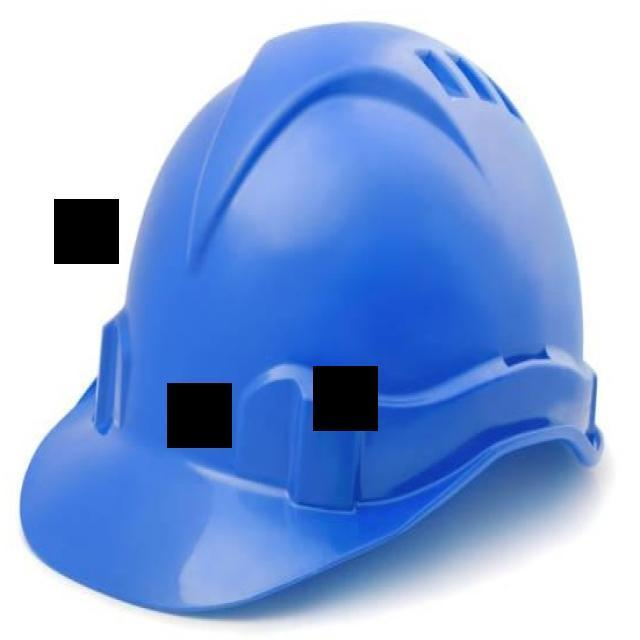blue helmet: (15, 23, 623, 620)
